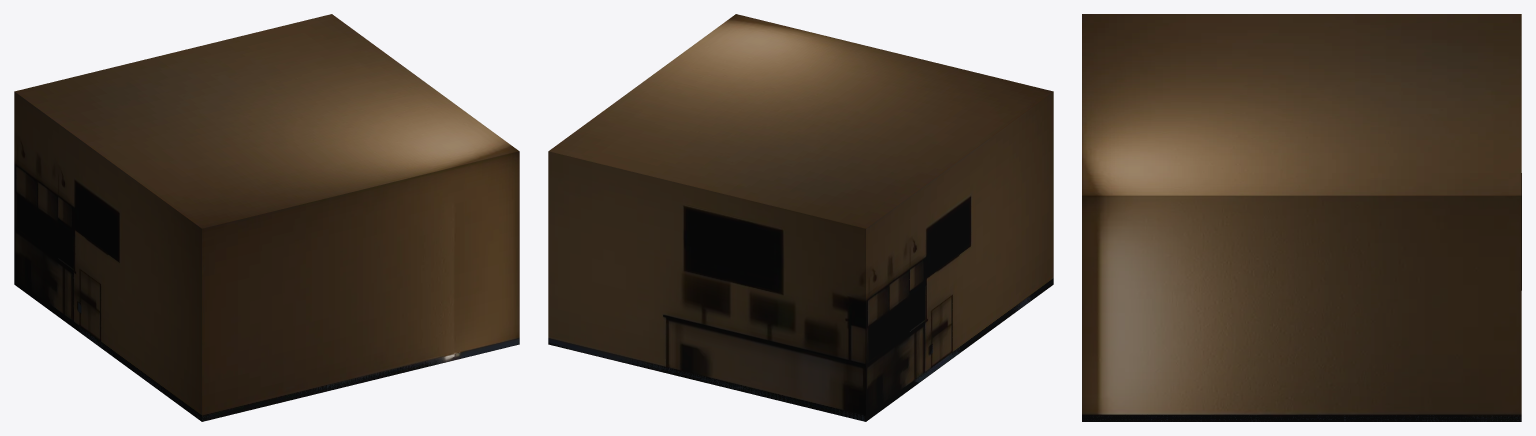
The model's file is room-lite.glb.
3 views of the same model, side by side, from view 1: azimuth 30°, elevation 25°; view 2: azimuth 150°, elevation 25°; view 3: azimuth 270°, elevation 25° (orthographic). The views are drawn at different scales.
Parts seen in each view (by area): view 1: baked_room; view 2: baked_room; view 3: baked_room.
Part boxes in pixels (left/top/right/bottom): baked_room: left=14, top=14, right=519, bottom=421; baked_room: left=548, top=14, right=1053, bottom=421; baked_room: left=1082, top=14, right=1521, bottom=421.
Size of the model in its own units: 4.3 by 2.5 by 4.4.
Materials: 14 (3 with a texture image).
